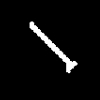half_double_crochet: (30, 22, 76, 72)
